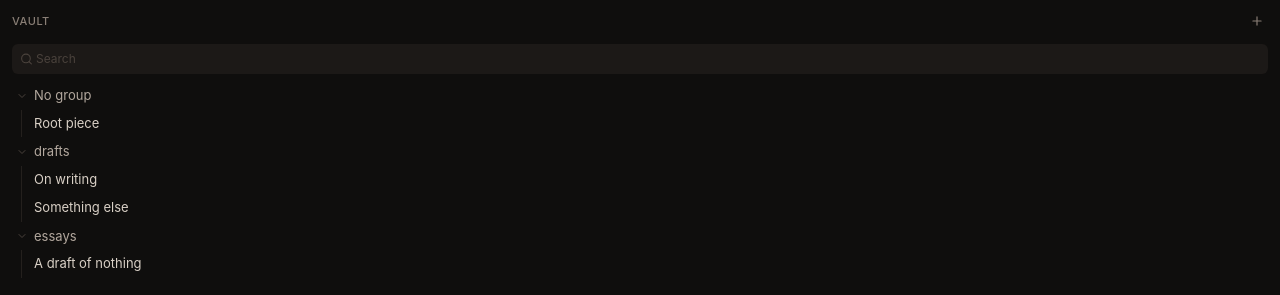
Scenario: LibraryPanel tree › should keep every document in a group when the group’s own name matches the filter
Step 1. Type "drafts" into the search field named "Search documents" → (640, 59), box x1=12 y1=44 x2=1268 y2=74
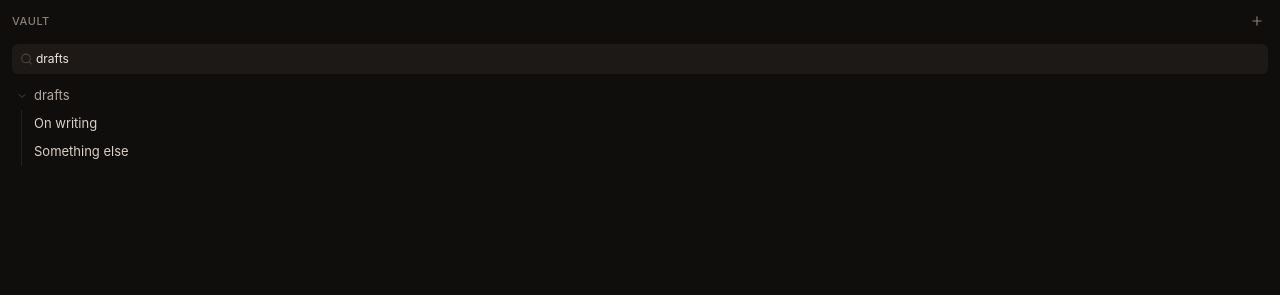
expect the button "On writing" is shown: met, box x1=26 y1=110 x2=1272 y2=137
expect the button "A draft of nothing" is gone: met
